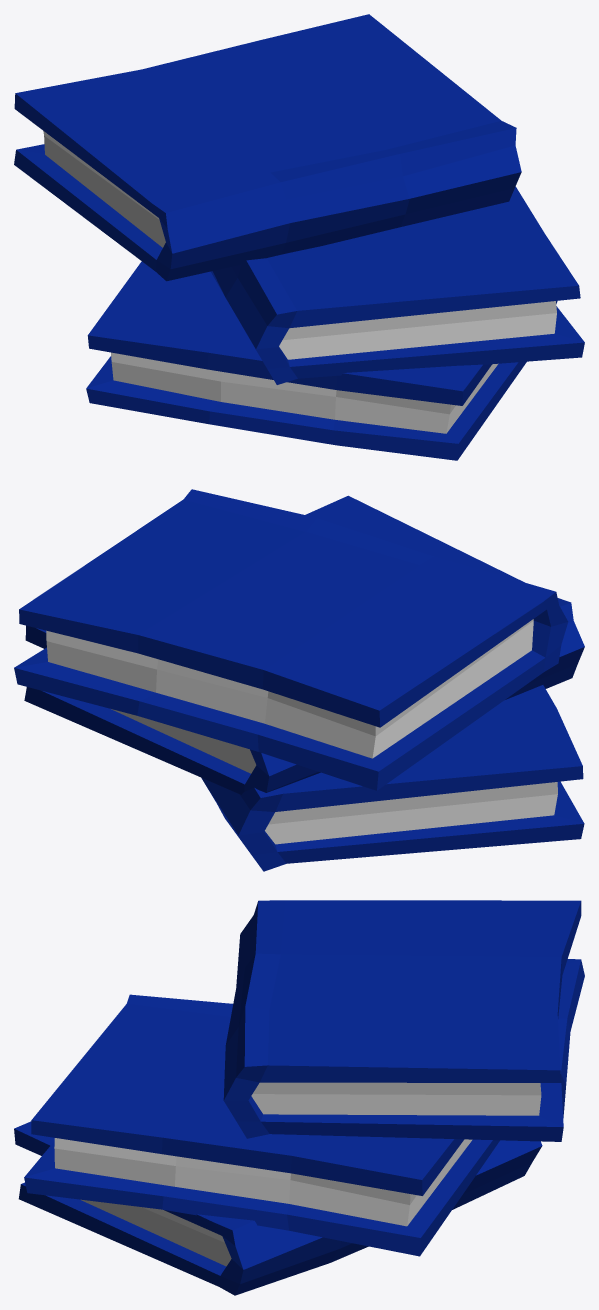
The model's file is book_triple_stacked.fbx.
The picture shows the model from 3 angles, top to bottom: view 1: azimuth 30°, elevation 25°; view 2: azimuth 150°, elevation 25°; view 3: azimuth 270°, elevation 25°; orthographic projection. The views are drawn at different scales.
Visible parts, largest first — view 1: books.005; view 2: books.005; view 3: books.005.
Boxes of the visible parts, left/top/right/bottom form: books.005: left=14, top=14, right=584, bottom=460; books.005: left=14, top=489, right=584, bottom=871; books.005: left=14, top=900, right=584, bottom=1295.
Bounding box in the file's own units: 47.5 × 20.92 × 48.98.
